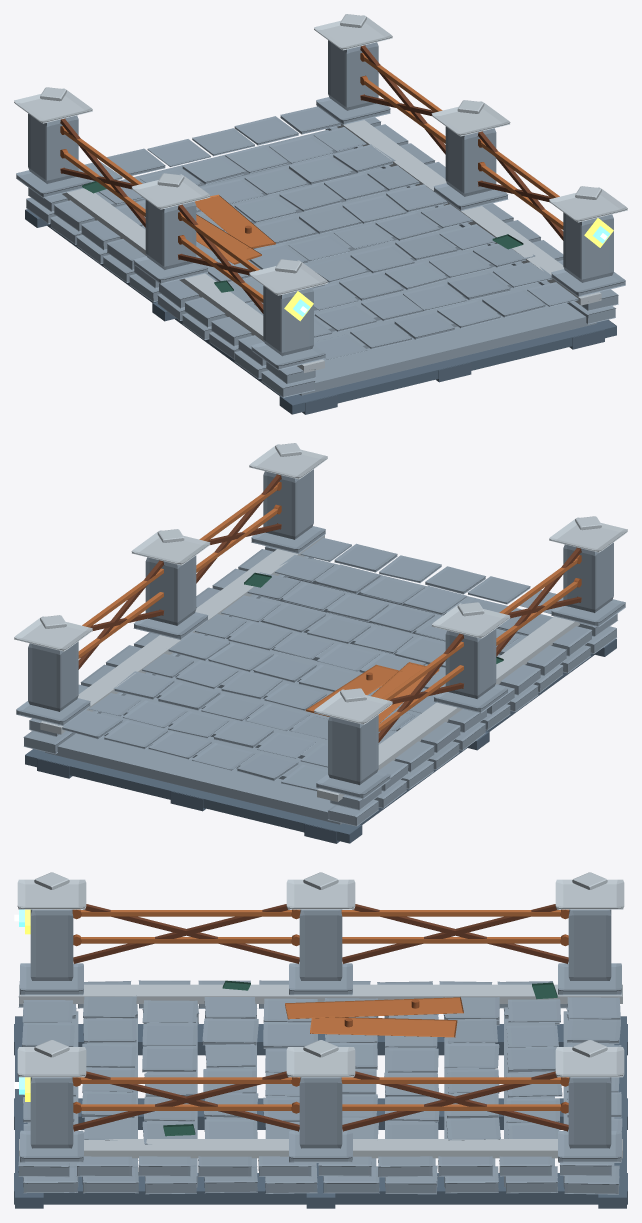
Rendered from Wachtbruecke_von_Ahnhoehe.glb.
3 renders of one model, top to bottom at view 1: azimuth 30°, elevation 25°; view 2: azimuth 150°, elevation 25°; view 3: azimuth 270°, elevation 25°, orthographic. The views are drawn at different scales.
Parts seen in each view (by area): view 1: Bridge_Side_Stonework, Bridge_Walkway_Slabs, Bridge_Stone_Tops, Bridge_Timber_Repairs, Bridge_Understructure, Bridge_Timber_Braces, Bridge_Moss_Patches; view 2: Bridge_Side_Stonework, Bridge_Walkway_Slabs, Bridge_Stone_Tops, Bridge_Understructure, Bridge_Timber_Repairs, Bridge_Timber_Braces; view 3: Bridge_Side_Stonework, Bridge_Walkway_Slabs, Bridge_Stone_Tops, Bridge_Timber_Repairs, Bridge_Understructure, Bridge_Timber_Braces, Bridge_Bronze_Fittings, Bridge_Moss_Patches.
Part boxes in pixels (bbox=[...]): Bridge_Side_Stonework: bbox=[16, 40, 625, 397]; Bridge_Walkway_Slabs: bbox=[78, 106, 578, 359]; Bridge_Stone_Tops: bbox=[14, 14, 627, 372]; Bridge_Timber_Repairs: bbox=[64, 56, 563, 302]; Bridge_Understructure: bbox=[25, 209, 616, 414]; Bridge_Timber_Braces: bbox=[60, 45, 563, 313]; Bridge_Moss_Patches: bbox=[82, 181, 523, 292]; Bridge_Side_Stonework: bbox=[16, 469, 625, 826]; Bridge_Walkway_Slabs: bbox=[57, 537, 563, 791]; Bridge_Stone_Tops: bbox=[14, 443, 627, 801]; Bridge_Understructure: bbox=[25, 638, 616, 843]; Bridge_Timber_Repairs: bbox=[78, 485, 577, 731]; Bridge_Timber_Braces: bbox=[78, 474, 581, 742]; Bridge_Side_Stonework: bbox=[18, 909, 621, 1194]; Bridge_Walkway_Slabs: bbox=[22, 995, 622, 1144]; Bridge_Stone_Tops: bbox=[17, 872, 624, 1158]; Bridge_Timber_Repairs: bbox=[81, 910, 560, 1110]; Bridge_Understructure: bbox=[14, 1016, 627, 1208]; Bridge_Timber_Braces: bbox=[73, 904, 568, 1131]; Bridge_Bronze_Fittings: bbox=[72, 909, 569, 1113]; Bridge_Moss_Patches: bbox=[163, 980, 557, 1136].
Size of what is drawn, in the model's own units: 4.53 by 1.7 by 5.98.
